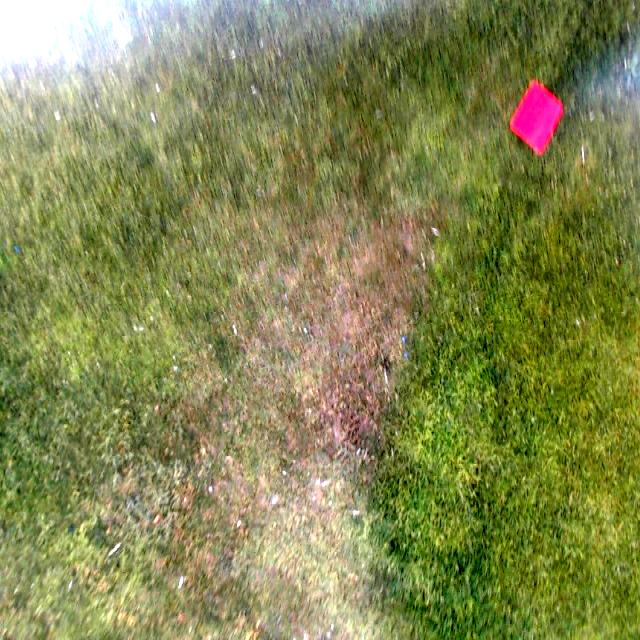red_square: (509, 81, 563, 155)
